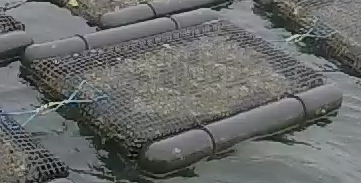bag: (22, 8, 343, 174)
